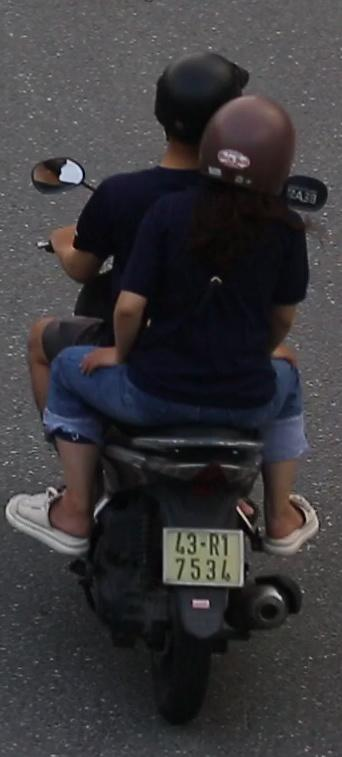LP: (157, 523, 248, 594)
helmet: (197, 94, 305, 230), (149, 44, 254, 168)
